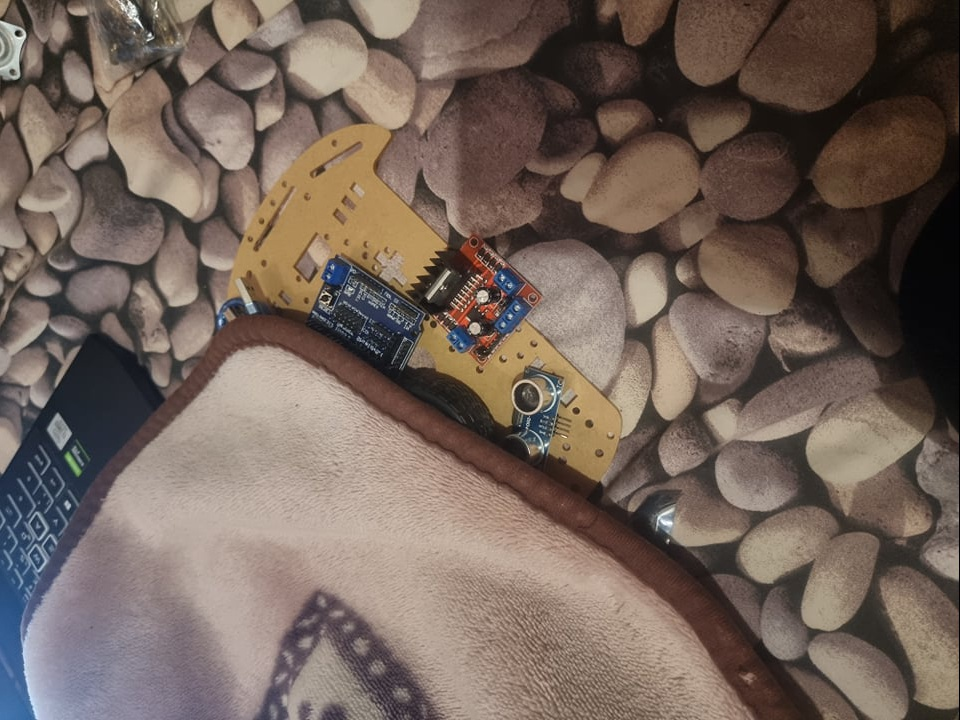5V EXPANSION: (307, 255, 426, 379)
MOTOR: (414, 232, 544, 360)
SENSOR: (505, 373, 565, 460)
